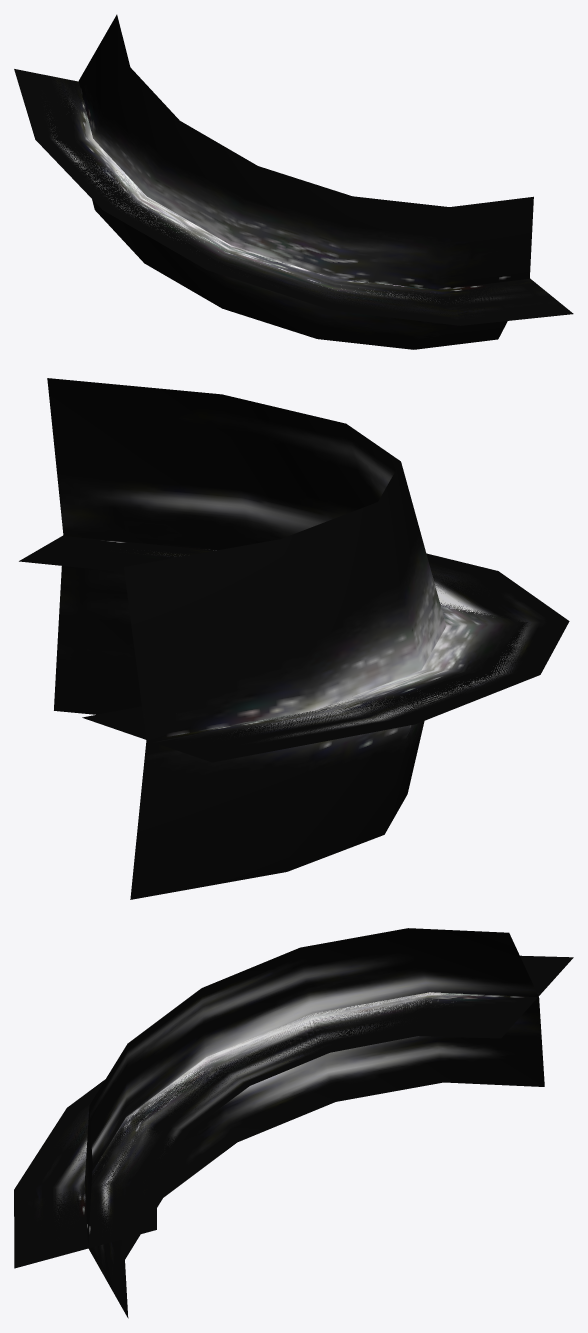
Rendered from guang #049117.fbx.
3 views of the same model, one above another, from view 1: azimuth 30°, elevation 25°; view 2: azimuth 150°, elevation 25°; view 3: azimuth 270°, elevation 25° (orthographic). The views are drawn at different scales.
Parts seen in each view (by area): view 1: Effect_1122attack_02, Effect_1122attack_01; view 2: Effect_1122attack_02, Effect_1122attack_01; view 3: Effect_1122attack_01, Effect_1122attack_02.
Part boxes in pixels (left/top/right/bottom): Effect_1122attack_02: left=14, top=14, right=573, bottom=349; Effect_1122attack_01: left=17, top=70, right=572, bottom=325; Effect_1122attack_02: left=19, top=462, right=536, bottom=899; Effect_1122attack_01: left=20, top=378, right=569, bottom=762; Effect_1122attack_01: left=14, top=928, right=555, bottom=1318; Effect_1122attack_02: left=14, top=955, right=573, bottom=1268.
Bounding box in the file's own units: 2.23 × 1.53 × 2.84.
2 materials, 2 textured.
